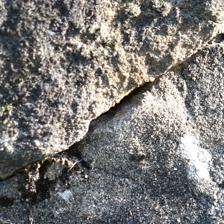Crack: (71, 78, 162, 152)
